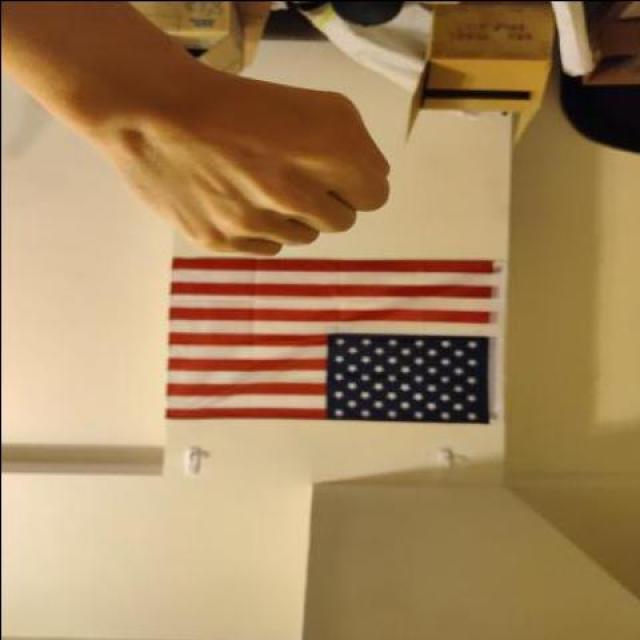Closed Hand: (65, 51, 391, 258)
